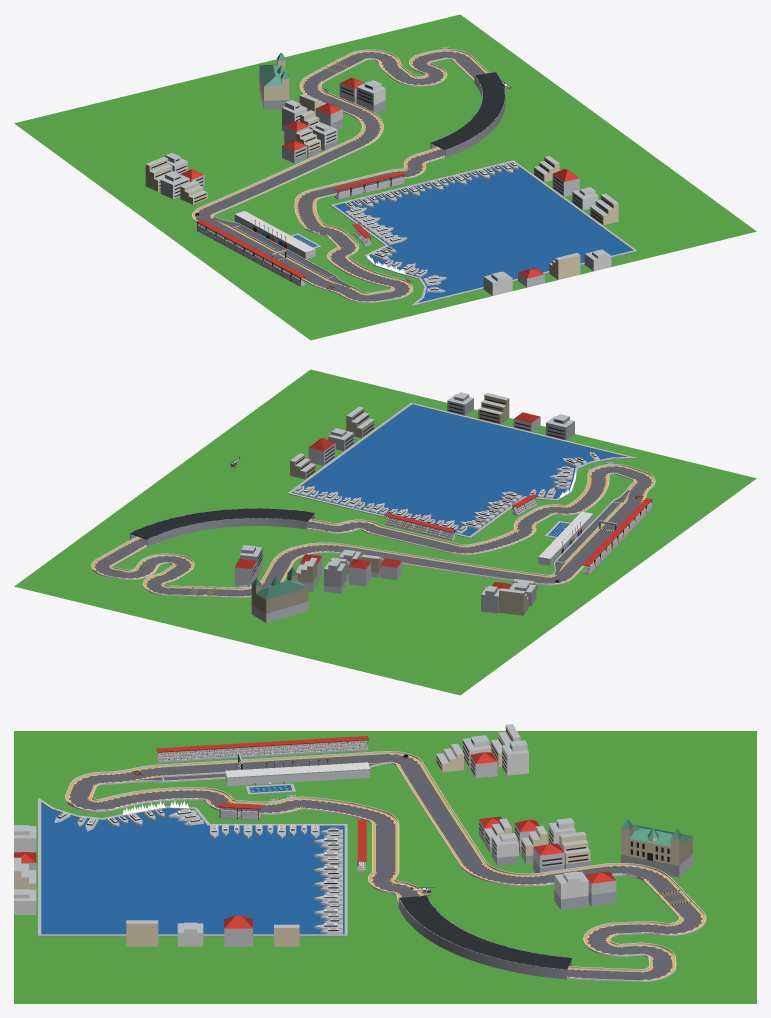
File: monarch.glb
3 views of the same model, one above another, from view 1: azimuth 30°, elevation 25°; view 2: azimuth 150°, elevation 25°; view 3: azimuth 270°, elevation 25° (orthographic). The views are drawn at different scales.
Visible parts, largest first — view 1: Grass, Prop.harbour.water, Asphalt, Prop.harbour.beam-top, Prop.block.beam-top, Prop.harbour.wall, Tunnel.carbon, WallLeft, Prop.block.stucco, WallRight, Prop.block.stand-plinth, Prop.block.wall (+14 smaller); view 2: Grass, Prop.harbour.water, Asphalt, Prop.harbour.beam-top, Prop.block.stucco-shade, Prop.block.beam-shade, Prop.block.stand-plinth, Prop.block.beam-top, Prop.harbour.wall, Tunnel.carbon, WallRight, WallLeft (+13 smaller); view 3: Grass, Prop.harbour.water, Asphalt, Prop.harbour.beam-top, Prop.block.beam-top, Prop.block.wall, Prop.block.stucco, WallLeft, Prop.harbour.wall, Tunnel.carbon, Grandstand.stand-riser, SandLeft (+16 smaller).
Boxes of the visible parts, left/top/right/bottom form: Grass: left=14, top=14, right=756, bottom=340; Prop.harbour.water: left=335, top=166, right=632, bottom=302; Asphalt: left=196, top=51, right=485, bottom=301; Prop.harbour.beam-top: left=331, top=160, right=636, bottom=305; Prop.block.beam-top: left=146, top=80, right=618, bottom=282; Prop.harbour.wall: left=344, top=162, right=518, bottom=292; Tunnel.carbon: left=431, top=72, right=505, bottom=149; WallLeft: left=192, top=49, right=489, bottom=302; Prop.block.stucco: left=149, top=100, right=618, bottom=279; WallRight: left=213, top=58, right=474, bottom=294; Prop.block.stand-plinth: left=146, top=83, right=563, bottom=287; Prop.block.wall: left=173, top=83, right=611, bottom=295; Grass: left=14, top=369, right=756, bottom=695; Prop.harbour.water: left=292, top=405, right=624, bottom=536; Asphalt: left=95, top=466, right=651, bottom=596; Prop.harbour.beam-top: left=287, top=402, right=636, bottom=537; Prop.block.stucco-shade: left=290, top=395, right=537, bottom=615; Prop.block.beam-shade: left=240, top=395, right=574, bottom=613; Prop.block.stand-plinth: left=234, top=417, right=540, bottom=615; Prop.block.beam-top: left=240, top=392, right=574, bottom=599; Prop.harbour.wall: left=293, top=452, right=599, bottom=533; Tunnel.carbon: left=130, top=508, right=314, bottom=539; WallRight: left=112, top=473, right=634, bottom=588; WallLeft: left=91, top=464, right=655, bottom=597; Grass: left=14, top=731, right=756, bottom=1003; Prop.harbour.water: left=41, top=803, right=344, bottom=934; Asphalt: left=69, top=754, right=701, bottom=980; Prop.harbour.beam-top: left=38, top=797, right=347, bottom=935; Prop.block.beam-top: left=14, top=724, right=590, bottom=932; Prop.block.wall: left=14, top=737, right=588, bottom=946; Prop.block.stucco: left=14, top=725, right=590, bottom=946; WallLeft: left=65, top=751, right=706, bottom=981; Prop.harbour.wall: left=54, top=808, right=342, bottom=934; Tunnel.carbon: left=399, top=895, right=571, bottom=969; Grandstand.stand-riser: left=157, top=740, right=367, bottom=871; SandLeft: left=66, top=752, right=705, bottom=978.
Size of the model in its own units: 402 by 43.41 by 463.
